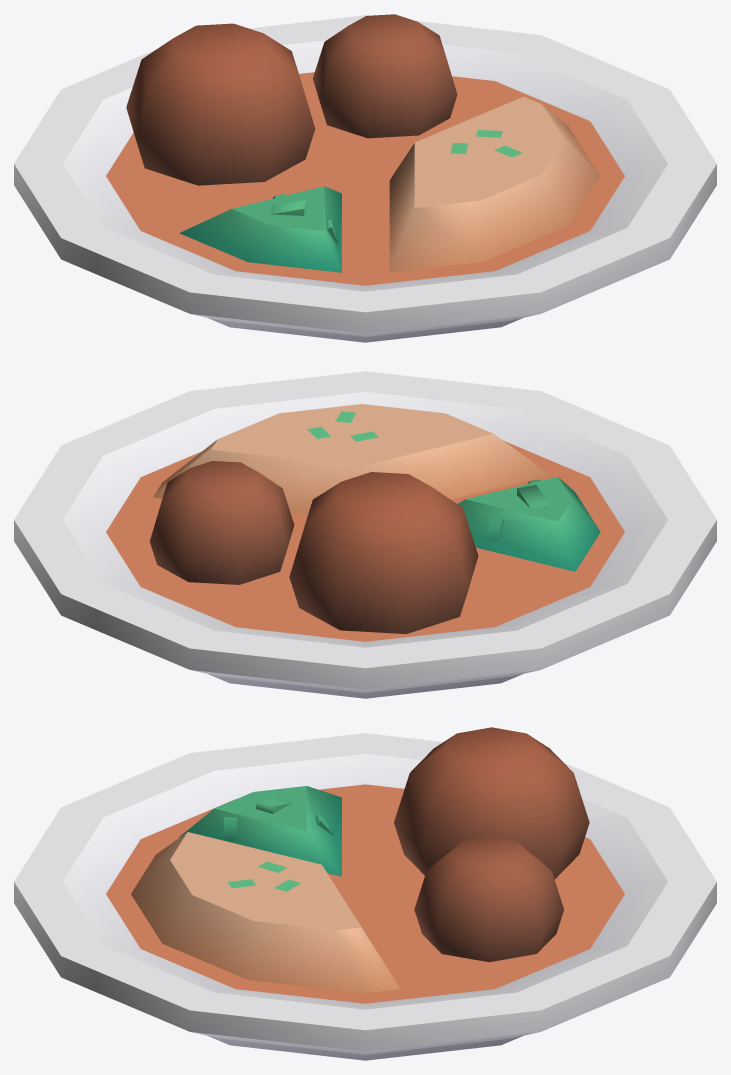
The model's file is cc0-dinner-lod0.glb.
3 renders of one model, top to bottom at view 1: azimuth 30°, elevation 25°; view 2: azimuth 150°, elevation 25°; view 3: azimuth 270°, elevation 25°, orthographic.
Parts seen in each view (by area): view 1: part_0; view 2: part_0; view 3: part_0.
Part boxes in pixels (x1,y1,x2,y2): part_0: [14, 14, 716, 342]; part_0: [14, 371, 716, 698]; part_0: [14, 727, 716, 1060].
Size of the model in its own units: 0.8918 by 0.2214 by 0.8918.
1 material, 1 textured.
